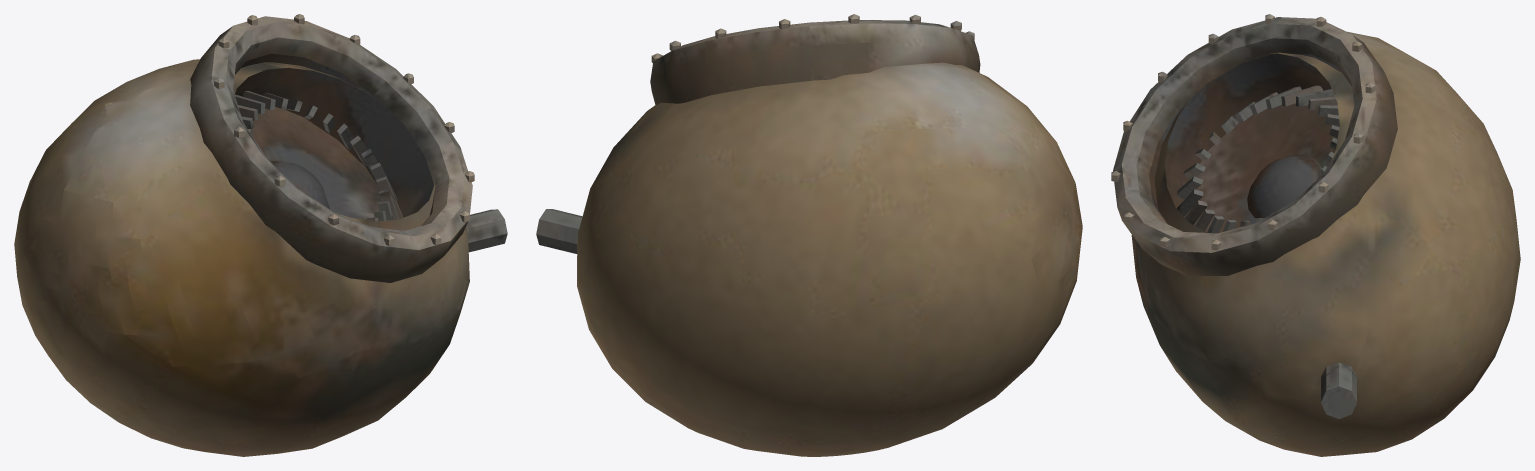
The model's file is crash-site-spaceship-wreck-medium-2.glb.
The picture shows the model from 3 angles, left to right: view 1: azimuth 30°, elevation 25°; view 2: azimuth 150°, elevation 25°; view 3: azimuth 270°, elevation 25°; orthographic projection. The views are drawn at different scales.
Visible parts, largest first — view 1: body; view 2: body; view 3: body.
Boxes of the visible parts, x1=… form: body: x1=14, y1=14, x2=507, y2=456; body: x1=536, y1=14, x2=1082, y2=456; body: x1=1111, y1=14, x2=1520, y2=456.
Bounding box in the file's own units: 2.03 × 1.67 × 1.58.
1 material, 1 textured.
